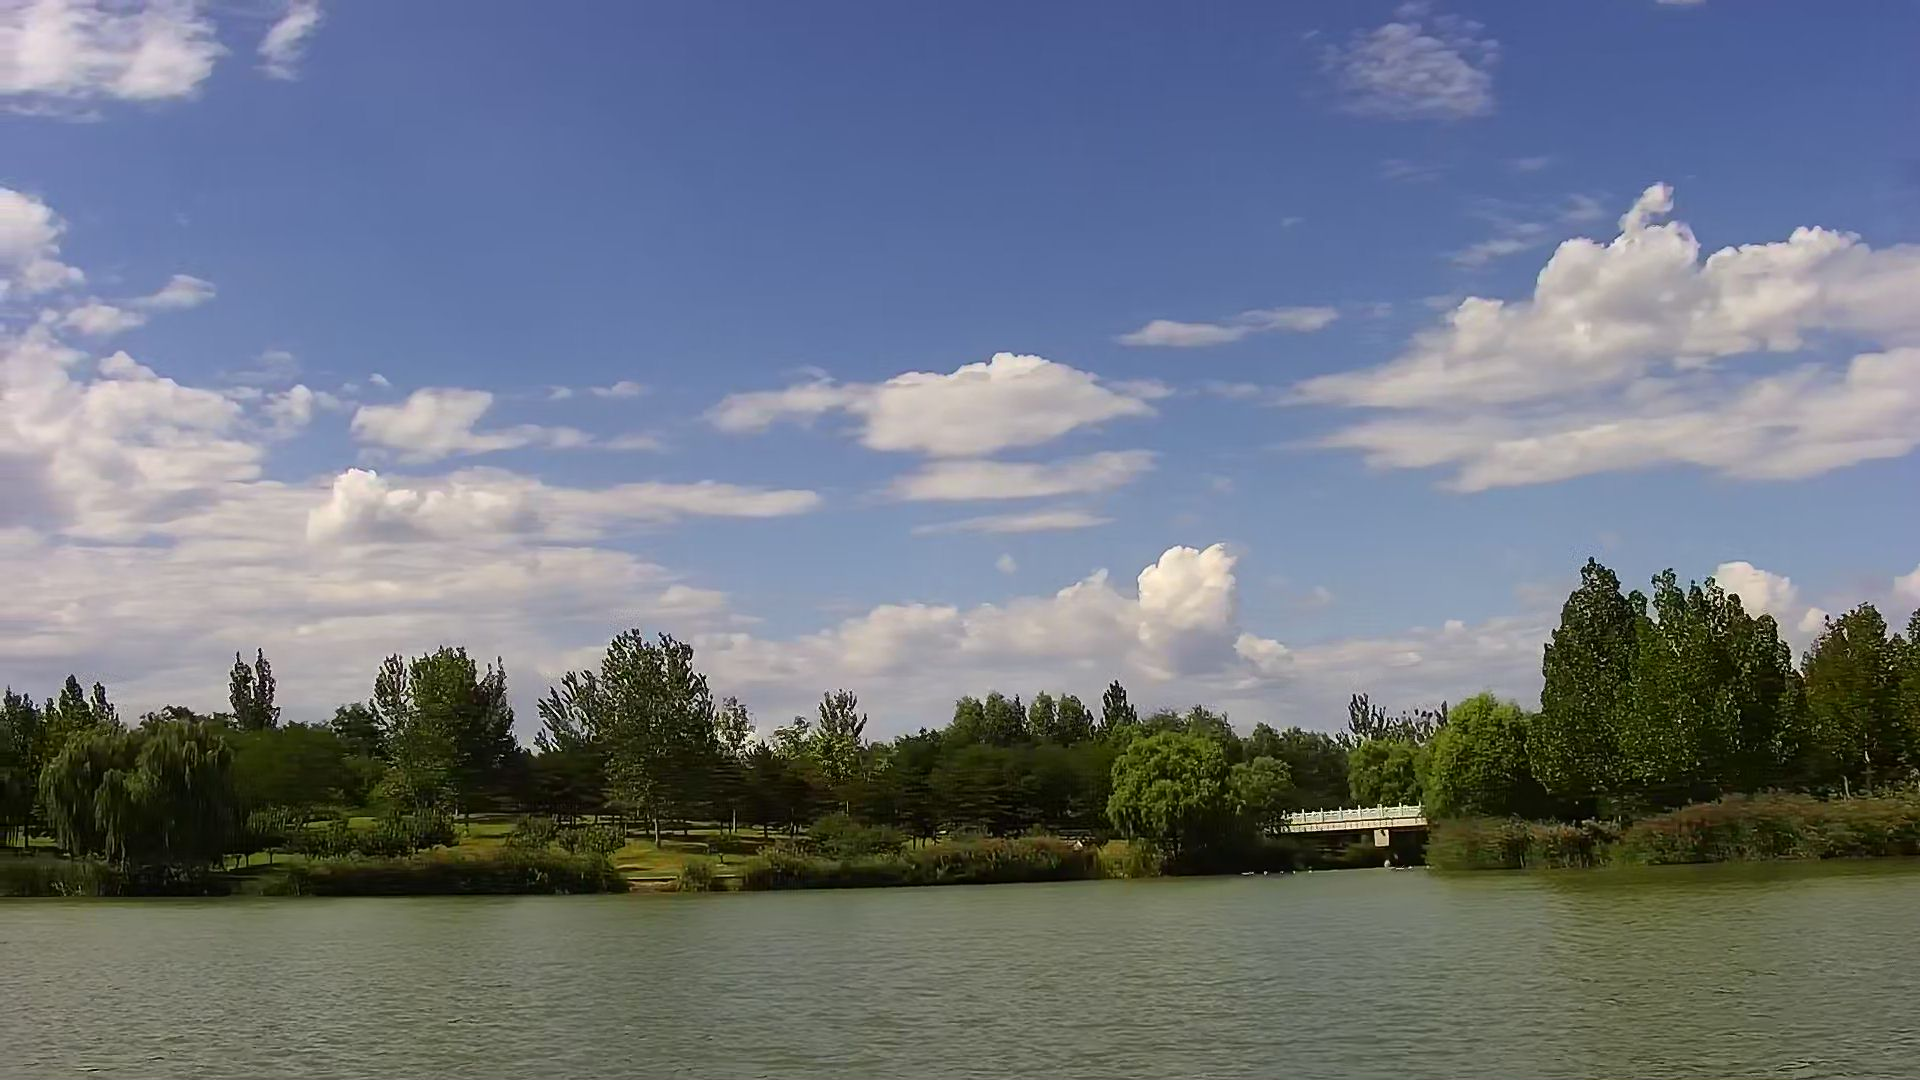bridge: (1290, 806, 1423, 870)
